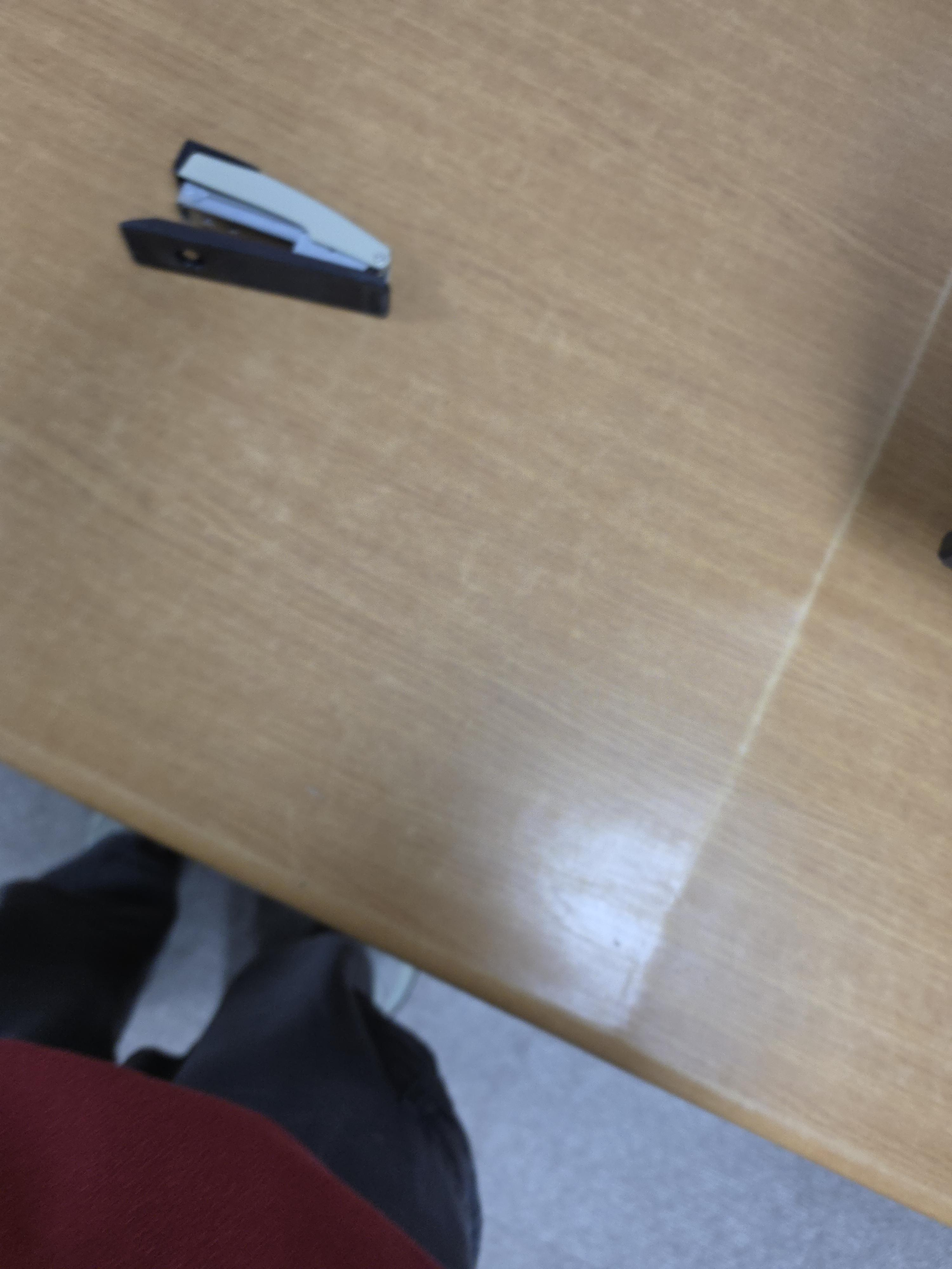stapler: (116, 139, 393, 318)
